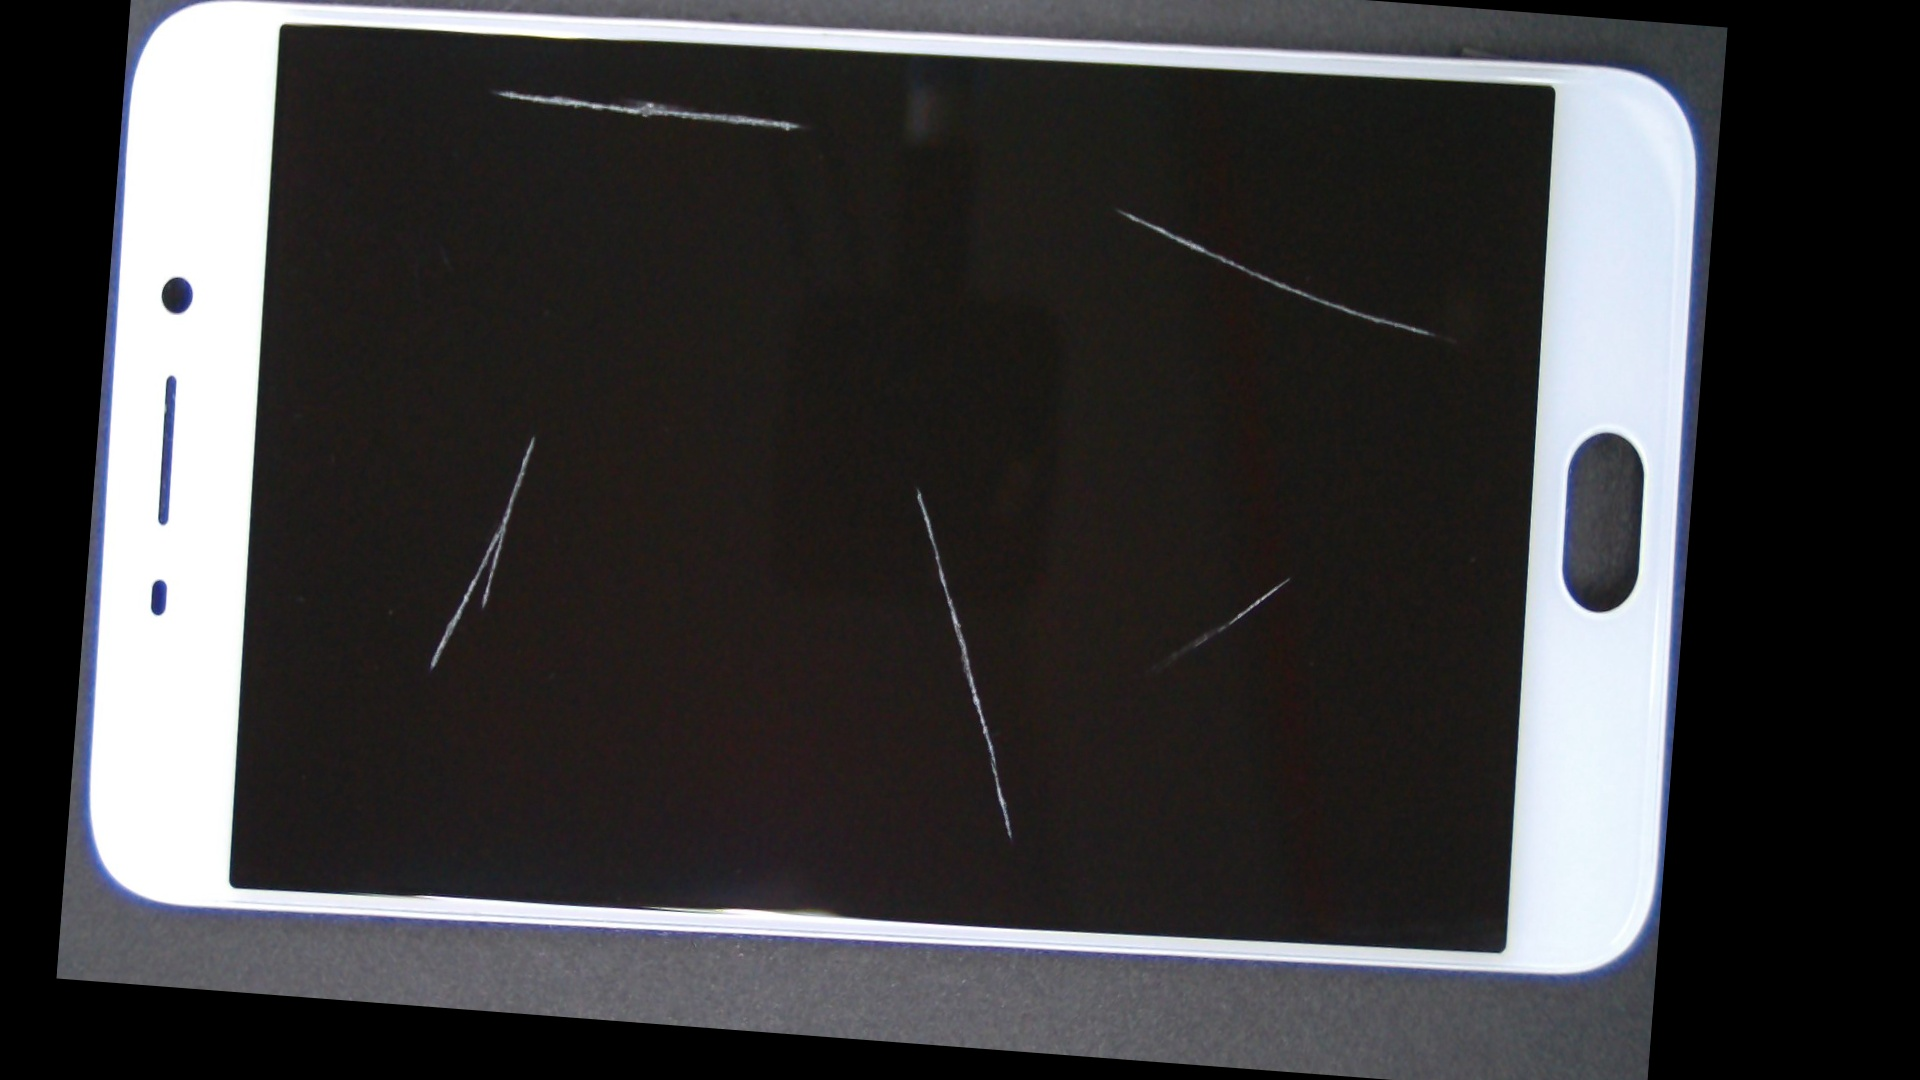oil: (670, 241, 1705, 897), (488, 196, 1344, 778), (611, 57, 1625, 357), (298, 171, 769, 700), (311, 0, 702, 181)
